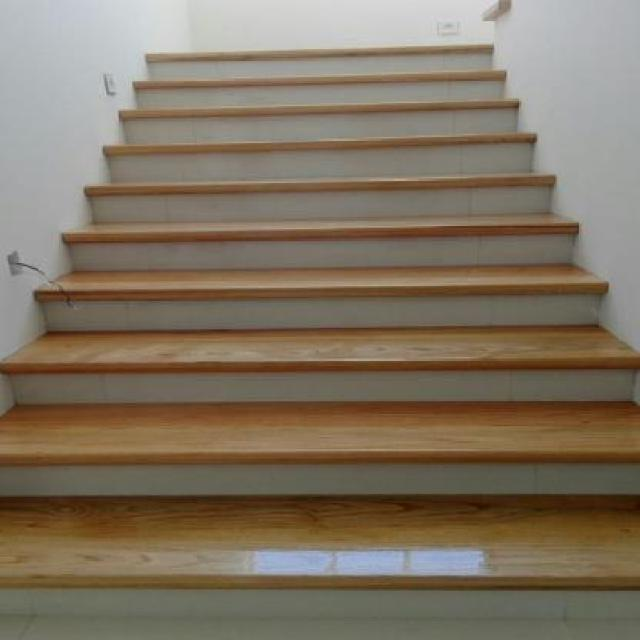stair: (1, 3, 630, 606)
